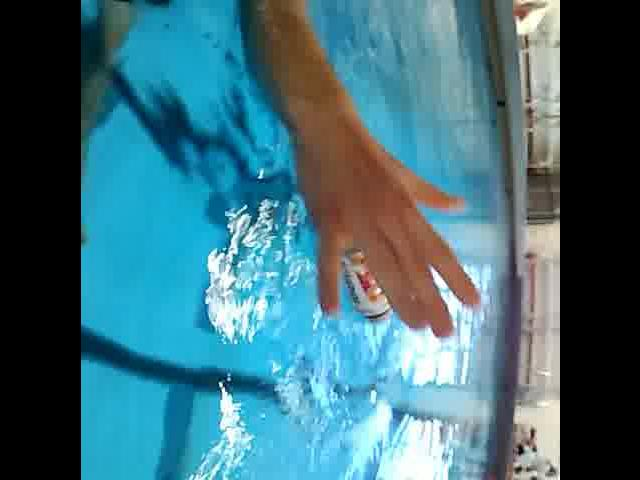Bottle: (339, 249, 395, 332)
